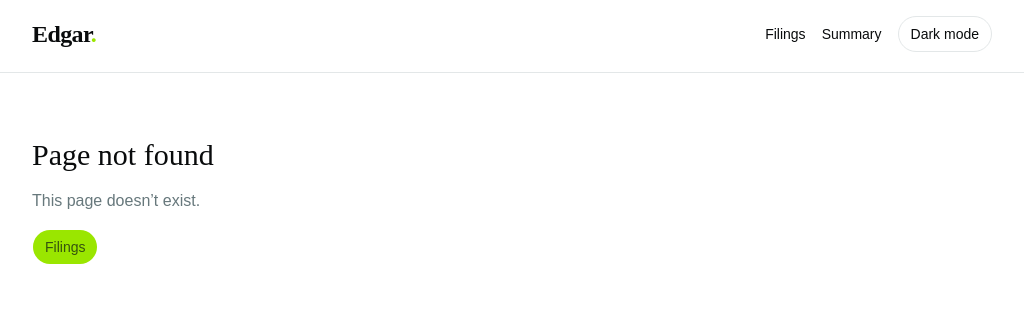
Test: component showcase › offers a route back from unknown URLs
Expected: the heading "Page not found" is shown, x1=32 y1=137 x2=214 y2=173
What coordinates should you click on to do the following:
click the link "Filings" below "This page doesn’t exist."
I would click on:
 (65, 247)
Its box is x1=32 y1=229 x2=98 y2=265.
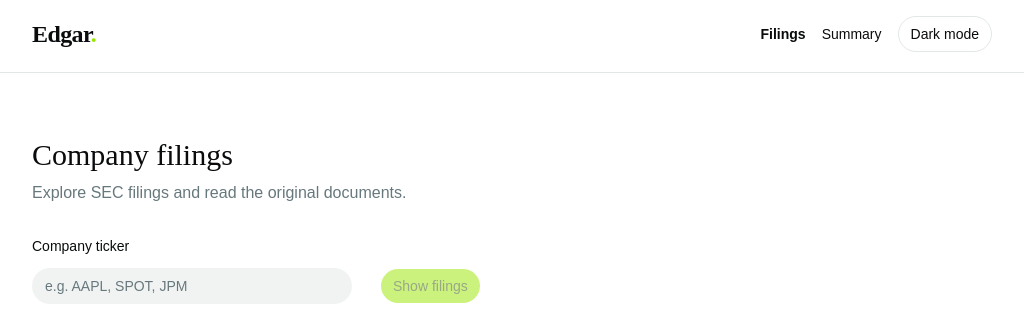
Expected: the heading "Company filings" is shown, x1=32 y1=138 x2=233 y2=171
